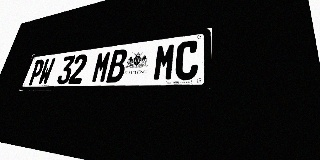2: (68, 54, 89, 84)
3: (56, 55, 76, 84)
B: (106, 49, 128, 83)
C: (174, 40, 199, 80)
M: (152, 42, 177, 81), (91, 51, 112, 83)
P: (27, 59, 46, 85)
W: (37, 58, 56, 85)
